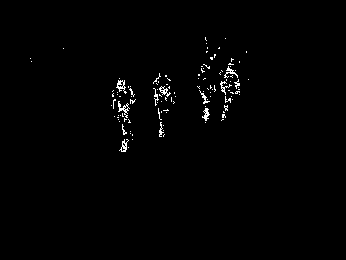person: (108, 77, 136, 155), (151, 73, 176, 138), (194, 61, 216, 124), (221, 62, 240, 123)
